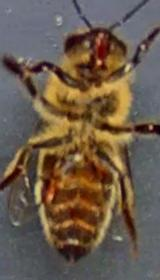varroa_mite: (40, 172, 70, 208)
